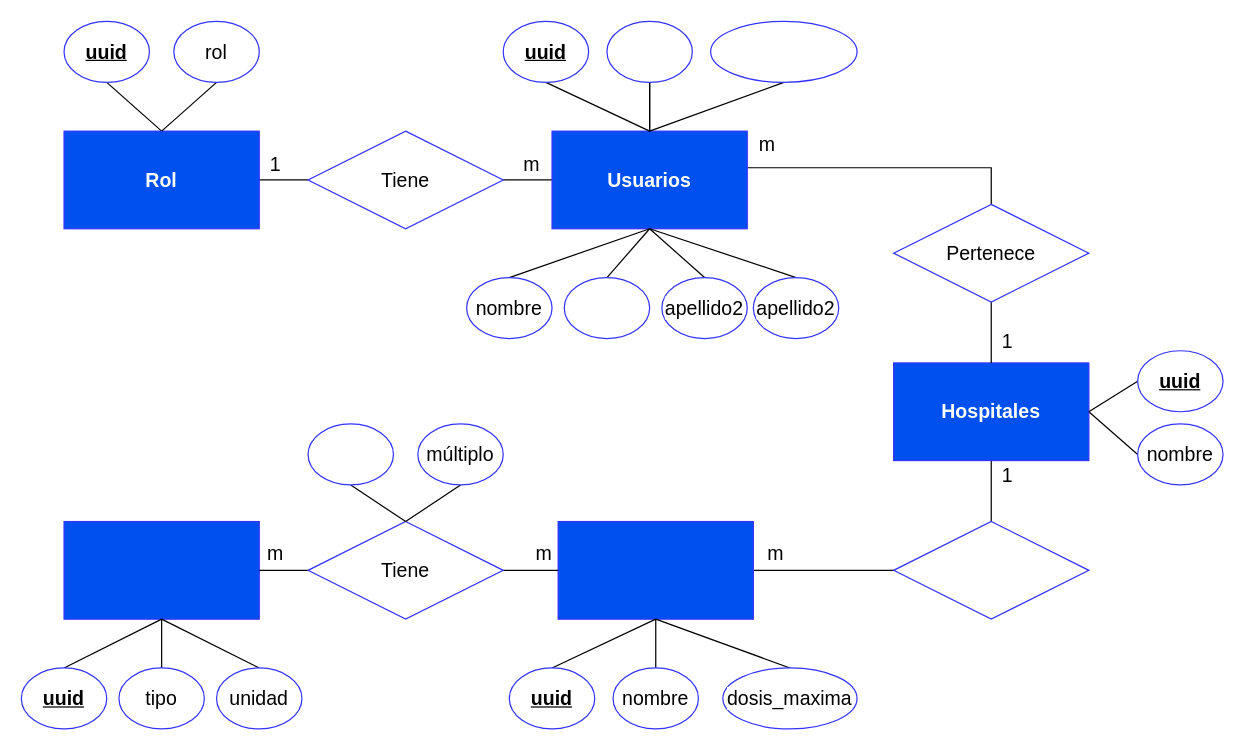
This 1244x752 diagram has some shape labels left out. The shapes that lost their labels are listed below. From the top down, each one's centre as x and y in pixels, then its label:
At pixel 649 51: "email".
At pixel 783 51: "password_hash".
At pixel 606 307: "apellido1".
At pixel 350 454: "valor".
At pixel 161 569: "Características".
At pixel 655 569: "Fármacos".
At pixel 990 569: "Posee".
